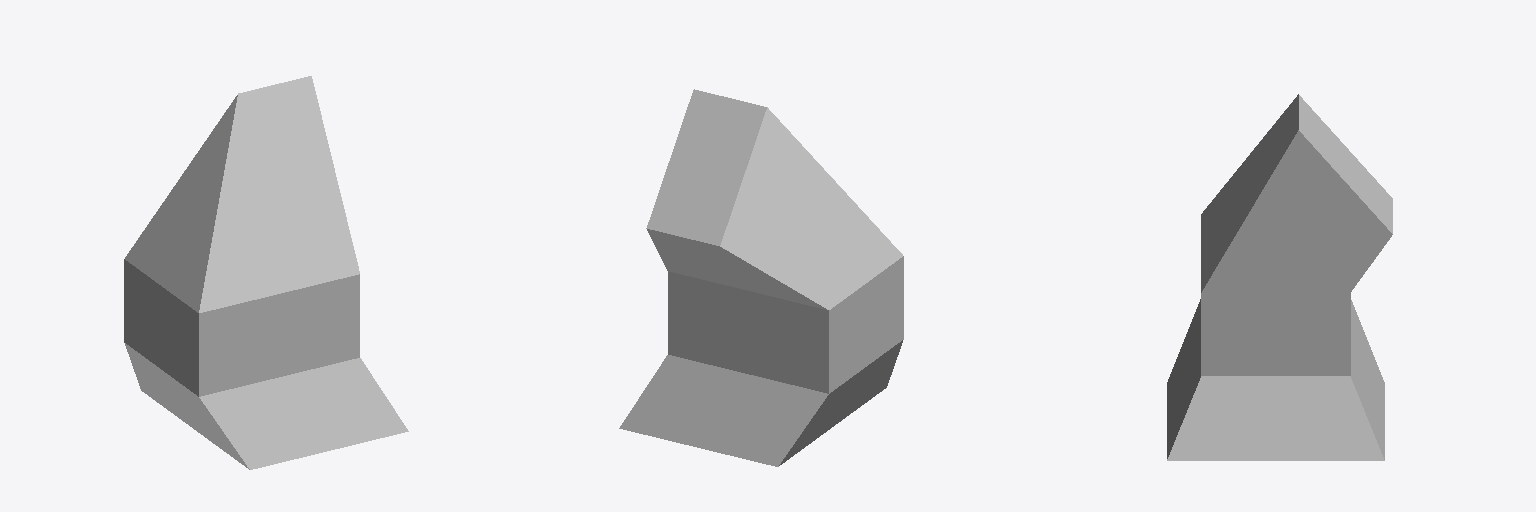
File: Trash10.obj
3 renders of one model, left to right at view 1: azimuth 30°, elevation 25°; view 2: azimuth 150°, elevation 25°; view 3: azimuth 270°, elevation 25°, orthographic.
Parts seen in each view (by area): view 1: Trash10; view 2: Trash10; view 3: Trash10.
Boxes of the visible parts, x1,y1,x2,y2 form: Trash10: [124, 76, 408, 469]; Trash10: [619, 89, 903, 466]; Trash10: [1167, 94, 1392, 460].
Bounding box in the file's own units: 6.04 × 9.43 × 6.12.